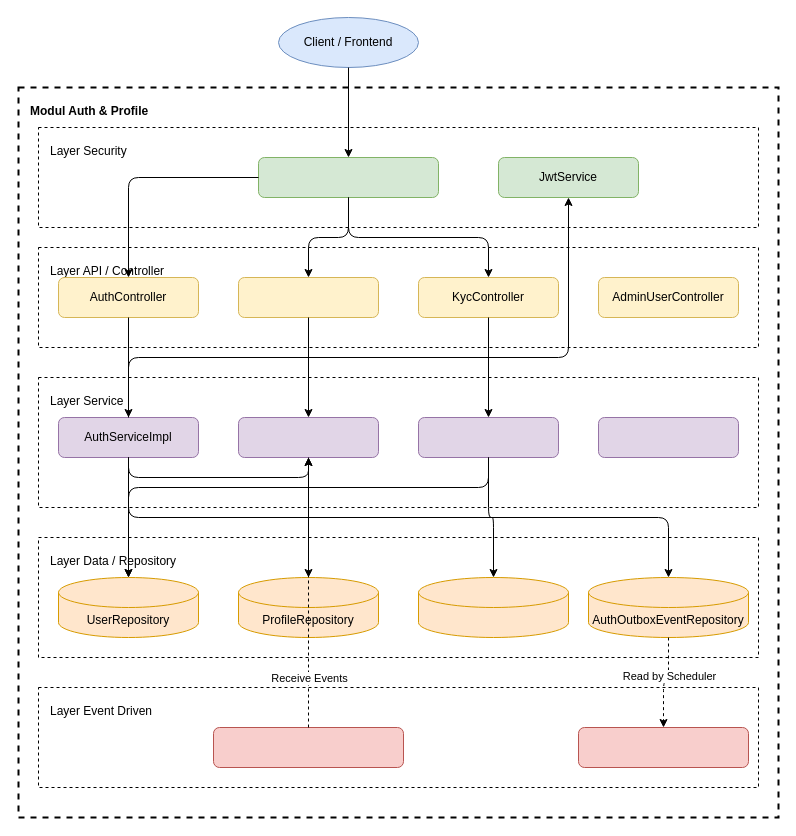
Image size: 796x836. Some labels were removed from this diagram. The centre of each missing label's shape, as x and y in pixels:
"AdminUserServiceImpl" goes at point 668,437.
"AuthOutboxEventDispatcher" goes at point 663,747.
"JwtAuthenticationFilter" goes at point 348,177.
"KycServiceImpl" goes at point 488,437.
"KycSubmissionRepository" goes at point 493,607.
"OrderCompletedEventHandler" goes at point 308,747.
"ProfileController" goes at point 308,297.
"ProfileServiceImpl" goes at point 308,437.
